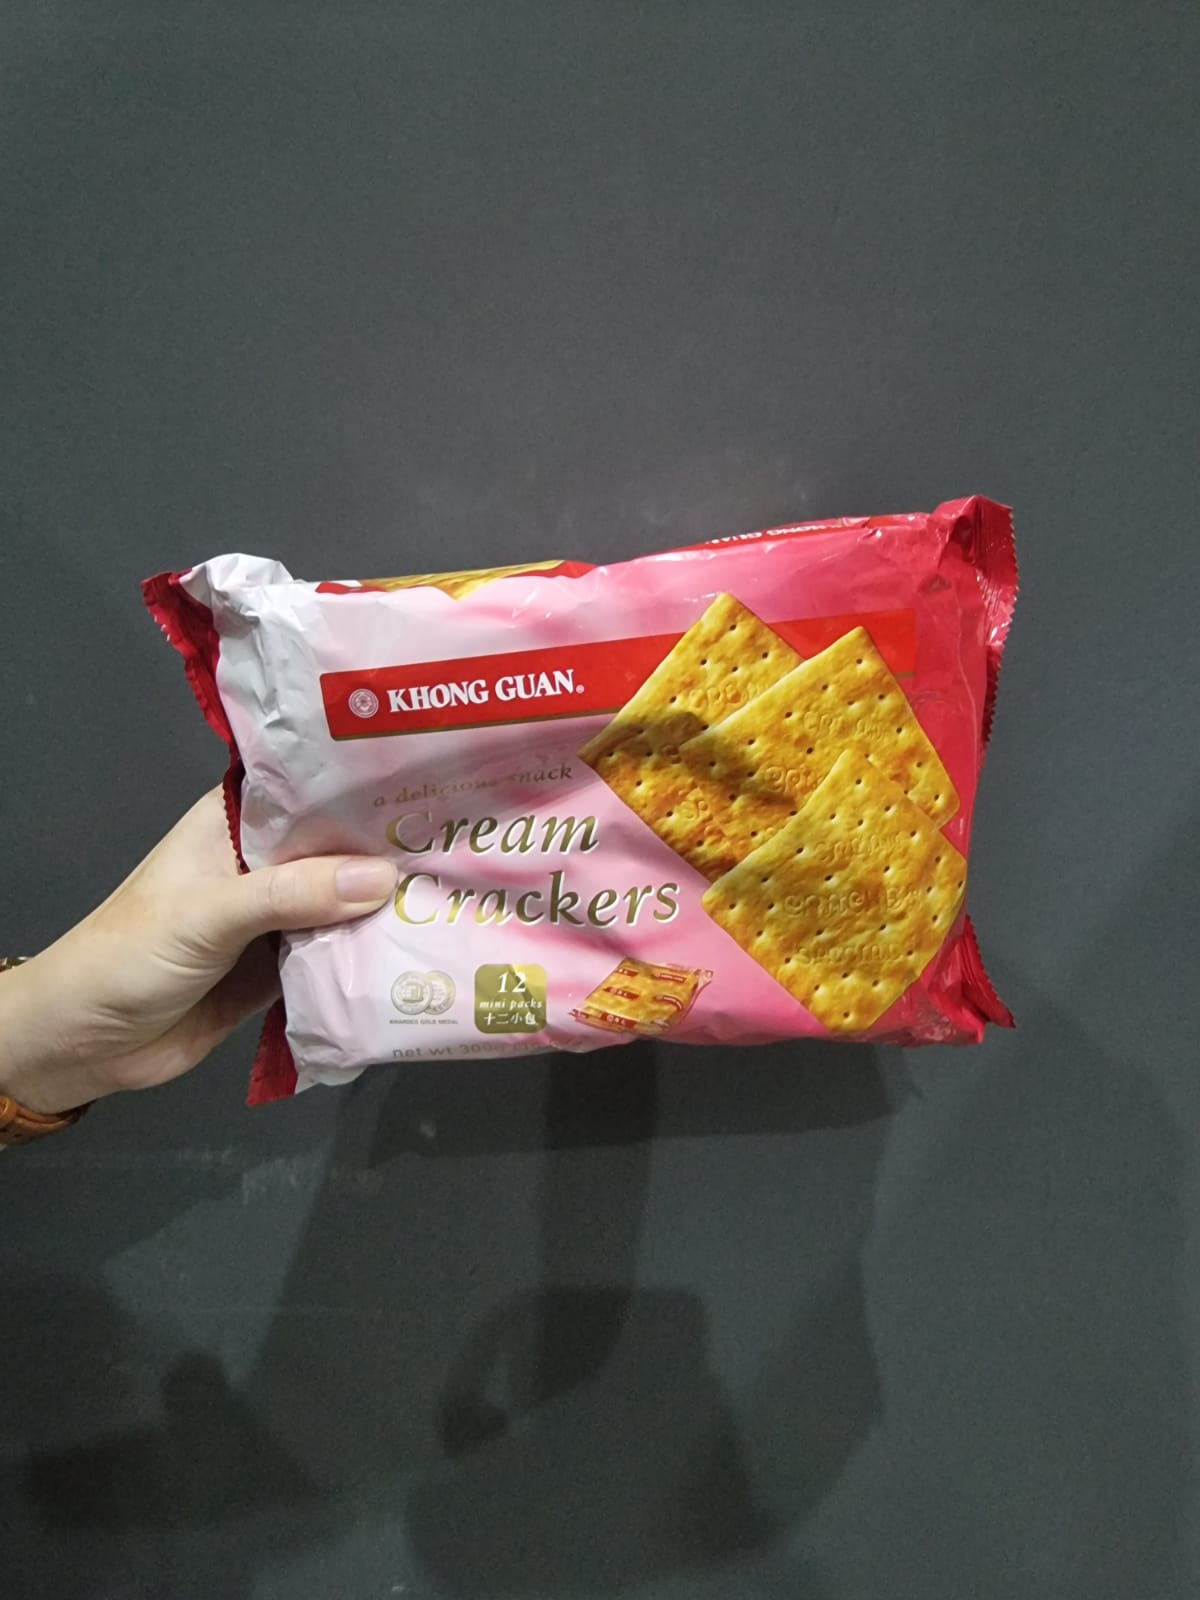Biscuits: (301, 583, 961, 1017)
